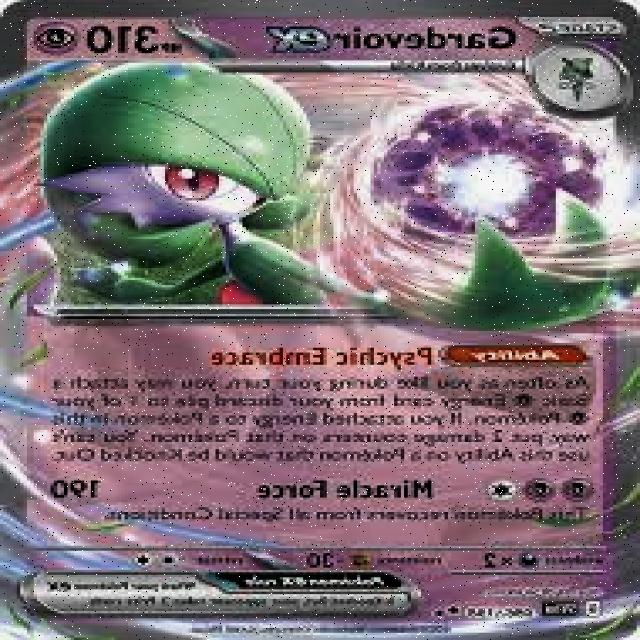gardevoir: (30, 60, 625, 328)
